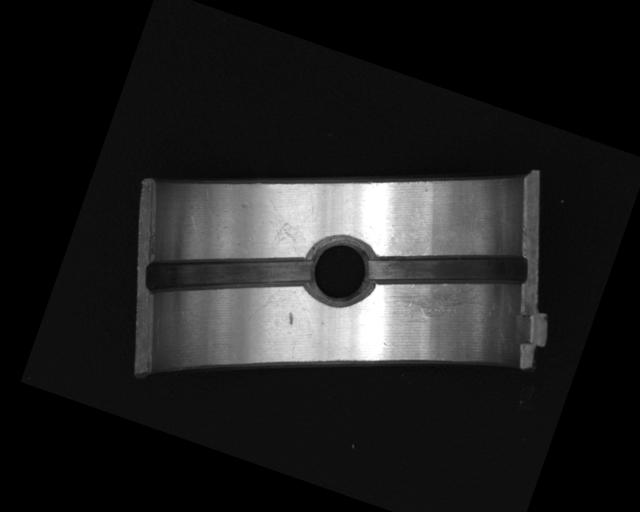bruise: (285, 311, 297, 327)
gap: (142, 211, 314, 339), (366, 210, 532, 325)
hole: (297, 227, 383, 315)
scratch: (386, 263, 485, 334)
